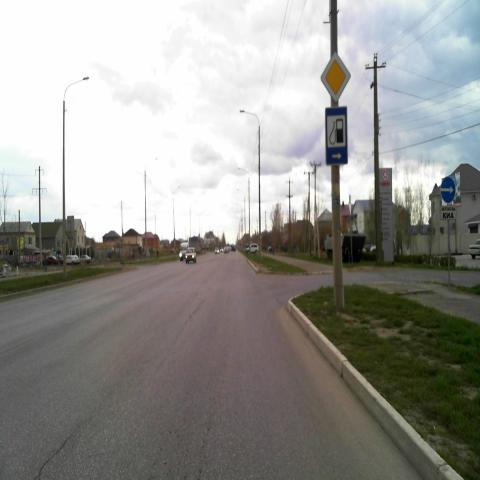4_1_2_1: (440, 177, 456, 204)
